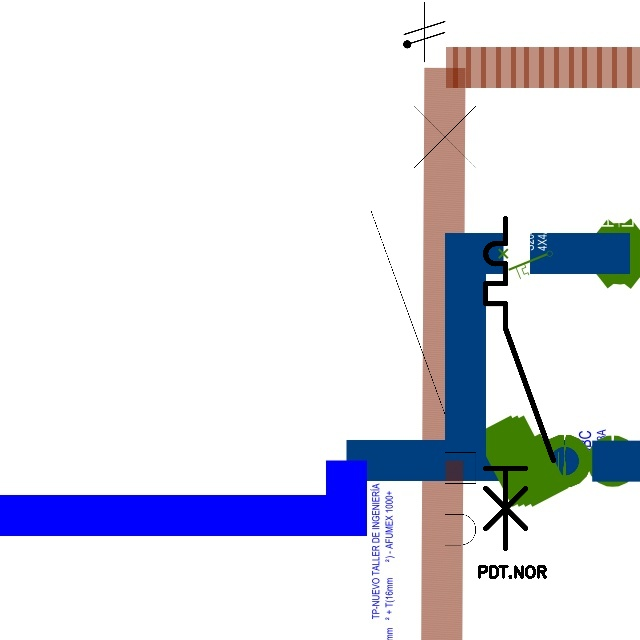interruptor_termomagnetico: (358, 62, 489, 596), (477, 210, 562, 556)
